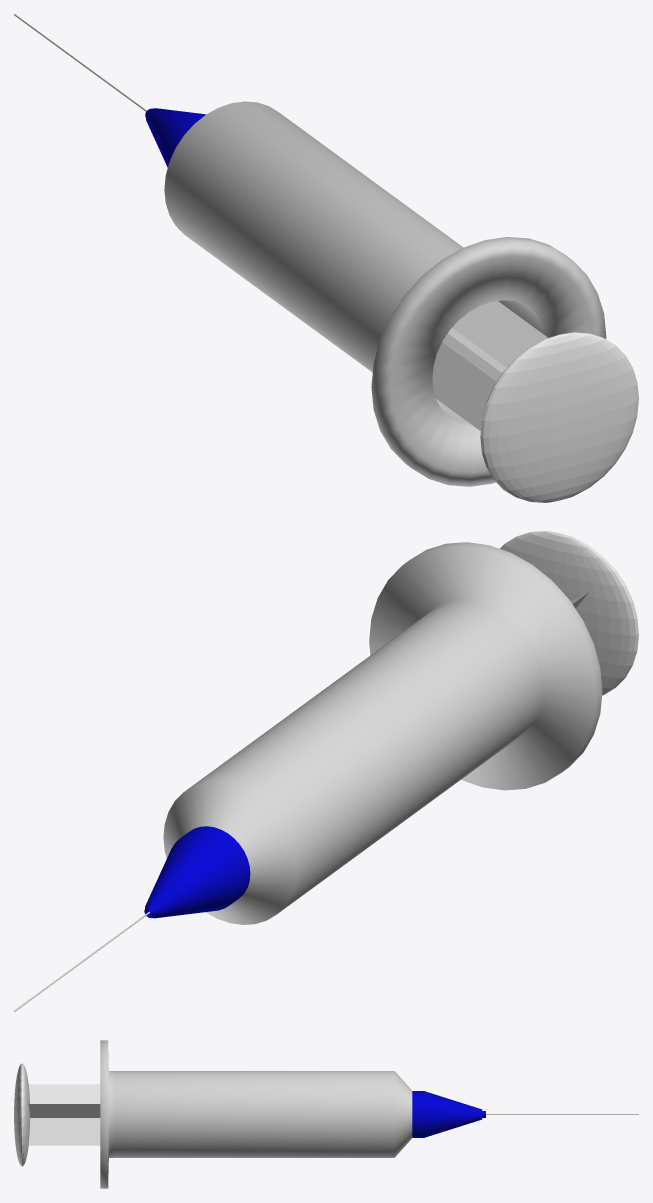
The model's file is Syringe.fbx.
3 views of the same model, one above another, from view 1: azimuth 30°, elevation 25°; view 2: azimuth 150°, elevation 25°; view 3: azimuth 270°, elevation 25° (orthographic). The views are drawn at different scales.
Visible parts, largest first — view 1: Cylinder, Cube.002; view 2: Cylinder, Cube.002; view 3: Cylinder, Cube.002.
Boxes of the visible parts, bbox=[...] form: Cylinder: bbox=[14, 14, 606, 486]; Cube.002: bbox=[432, 301, 638, 502]; Cylinder: bbox=[14, 542, 602, 1011]; Cube.002: bbox=[500, 531, 638, 695]; Cylinder: bbox=[100, 1040, 638, 1188]; Cube.002: bbox=[14, 1063, 100, 1166].
Bounding box in the file's own units: 230 × 230 × 969.
